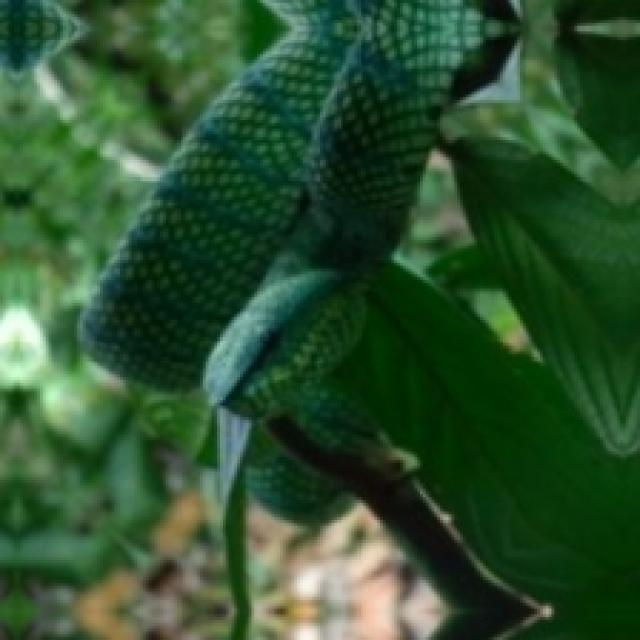north ph temple pitviper: (83, 0, 511, 400)
